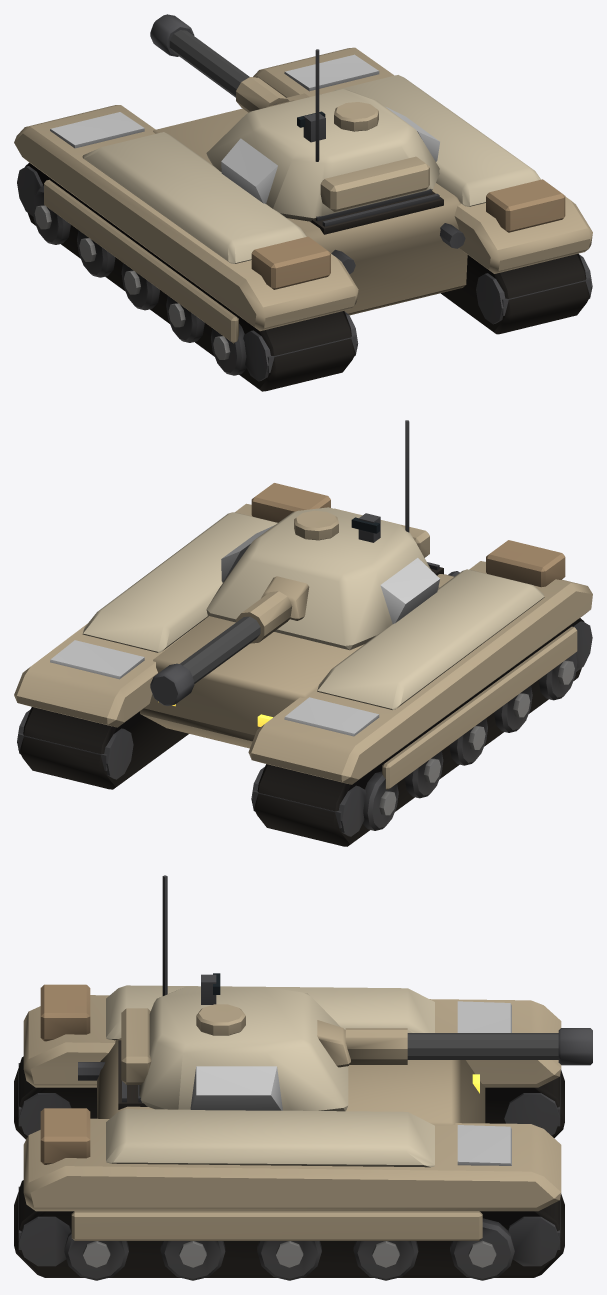
Rendered from ATREIDES_COMBAT_TANK.glb.
3 renders of one model, top to bottom at view 1: azimuth 30°, elevation 25°; view 2: azimuth 150°, elevation 25°; view 3: azimuth 270°, elevation 25°, orthographic. The views are drawn at different scales.
Parts seen in each view (by area): view 1: hull, turret, barrel, idler_R, wheel_L4, wheel_L0, idler_L, wheel_L3, wheel_L1, wheel_L2, sprocket_L; view 2: hull, turret, barrel, wheel_L4, sprocket_R, sprocket_L, wheel_L1, wheel_L2, wheel_L0, wheel_L3, idler_L; view 3: hull, turret, barrel, wheel_R4, wheel_R0, wheel_R1, wheel_R3, wheel_R2, sprocket_R, idler_R, sprocket_L, idler_L.
Boxes of the visible parts, <box> form: hull: <box>14,47,592,391</box>; turret: <box>206,49,439,221</box>; barrel: <box>150,14,293,112</box>; idler_R: <box>476,254,592,324</box>; wheel_L4: <box>32,186,70,244</box>; wheel_L0: <box>211,324,246,375</box>; idler_L: <box>243,312,358,381</box>; wheel_L3: <box>77,230,115,277</box>; wheel_L1: <box>166,295,204,342</box>; wheel_L2: <box>121,263,159,310</box>; sprocket_L: <box>17,166,43,216</box>; hull: <box>14,483,592,846</box>; turret: <box>206,420,439,650</box>; barrel: <box>150,576,309,705</box>; wheel_L4: <box>362,771,398,830</box>; sprocket_R: <box>17,709,133,779</box>; sprocket_L: <box>251,767,366,836</box>; wheel_L1: <box>494,685,532,732</box>; wheel_L2: <box>449,718,487,765</box>; wheel_L0: <box>538,653,577,700</box>; wheel_L3: <box>405,751,443,798</box>; idler_L: <box>573,621,592,671</box>; hull: <box>14,984,564,1277</box>; turret: <box>121,875,348,1111</box>; barrel: <box>317,1020,592,1067</box>; wheel_R4: <box>450,1218,514,1280</box>; wheel_R0: <box>64,1230,128,1280</box>; wheel_R1: <box>160,1241,225,1280</box>; wheel_R3: <box>353,1241,418,1280</box>; wheel_R2: <box>257,1241,321,1280</box>; sprocket_R: <box>508,1216,560,1266</box>; idler_R: <box>18,1216,70,1266</box>; sprocket_L: <box>504,1093,560,1135</box>; idler_L: <box>18,1093,71,1135</box>.
Size of the model in its own units: 0.7 by 0.525 by 0.9302.
